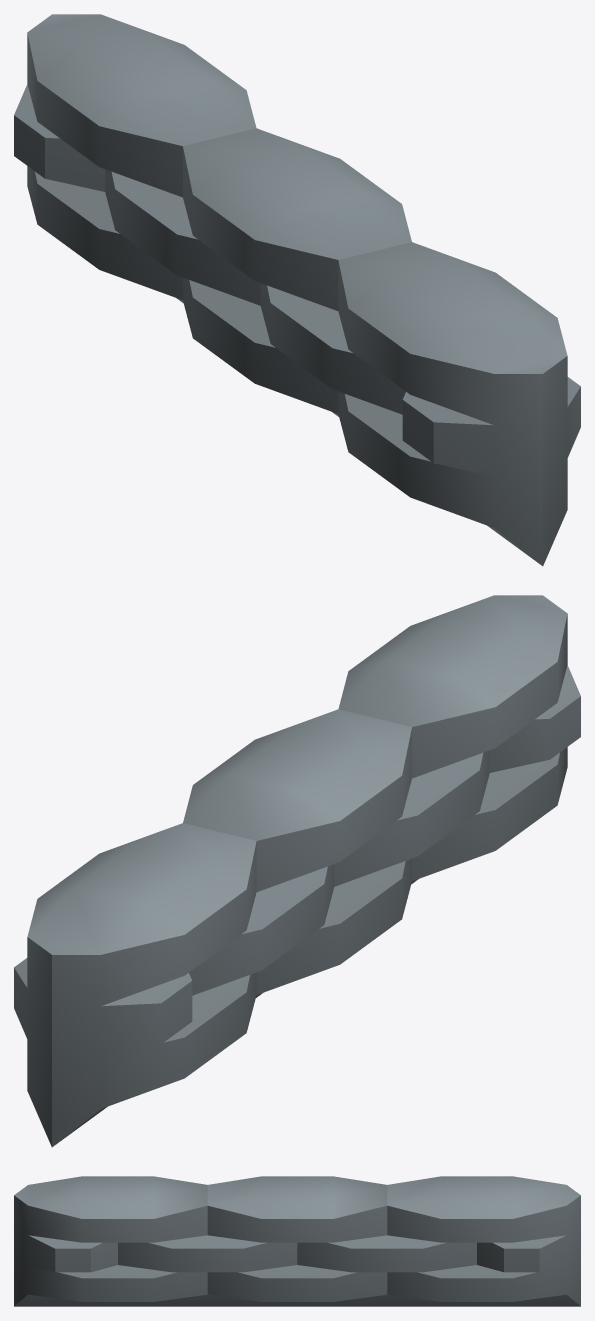
File: fence_stone.glb
3 renders of one model, top to bottom at view 1: azimuth 30°, elevation 25°; view 2: azimuth 150°, elevation 25°; view 3: azimuth 270°, elevation 25°, orthographic. The views are drawn at different scales.
Parts seen in each view (by area): view 1: fence_stone_straight; view 2: fence_stone_straight; view 3: fence_stone_straight.
Part boxes in pixels (x1,y1,x2,y2): fence_stone_straight: (14,14,580,566); fence_stone_straight: (14,595,580,1147); fence_stone_straight: (14,1176,580,1306).
Bounding box in the file's own units: 0.2 × 0.269 × 1.15.
Materials: 1 (1 with a texture image).
